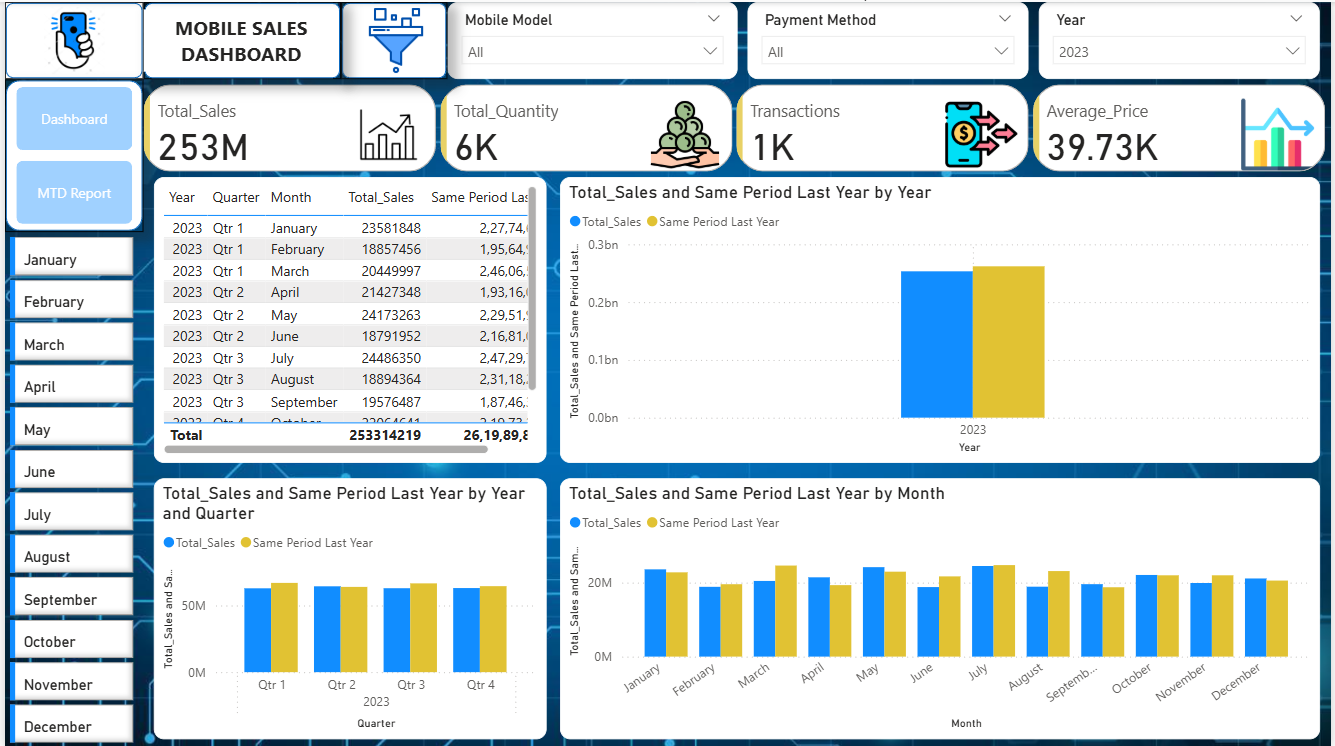

Layout of this report page (visuals, bound fields, positions):
{"tool":"powerbi","page":{"name":"Same Period Last Year","canvas":[1280,720],"ordinal":2},"visuals":[{"type":"shape","box":[0,0,133.9,74.8],"z":0},{"type":"image","box":[0,0,133.9,74.8],"z":1000},{"type":"shape","box":[0,74.8,133.9,147.2],"z":2000},{"type":"cardVisual","fields":{"Data":["Sales_Data.Total_Sales","Sales_Data.Total_Quantity","Sales_Data.Transactions","Sales_Data.Average_Price"]},"box":[129.1,74.8,1150.9,94.1],"z":3000},{"type":"slicer","fields":{"Values":["Sales_Data.Mobile Model"]},"box":[427.1,0,279.9,74.8],"z":4000},{"type":"slicer","fields":{"Values":["Sales_Data.Payment Method"]},"box":[716.6,0,271.4,74.8],"z":5000},{"type":"shape","box":[324.5,0,102.5,74.8],"z":6000},{"type":"image","box":[333,0,88.1,74.8],"z":7000},{"type":"slicer","fields":{"Values":["Custom_Calender.Date.Variation.Date Hierarchy.Year"]},"box":[997.7,0,271.4,74.8],"z":8000},{"type":"shape","box":[133.9,0,190.6,74.8],"z":9000},{"type":"textbox","box":[133.9,7.2,188.2,60.3],"z":10000},{"type":"advancedSlicerVisual","fields":{"Values":["Custom_Calender.Date.Variation.Date Hierarchy.Month"]},"box":[0,222,129.1,498.3],"z":11000},{"type":"tableEx","fields":{"Values":["Custom_Calender.Date.Variation.Date Hierarchy.Year","Custom_Calender.Date.Variation.Date Hierarchy.Quarter","Custom_Calender.Date.Variation.Date Hierarchy.Month","Sales_Data.Total_Sales","Sales_Data.Same Period Last Year"]},"box":[143.6,168.9,378.8,276.3],"z":12000},{"type":"clusteredColumnChart","fields":{"Category":["Custom_Calender.Date.Variation.Date Hierarchy.Year","Custom_Calender.Date.Variation.Date Hierarchy.Quarter"],"Y":["Sales_Data.Total_Sales","Sales_Data.Same Period Last Year"]},"box":[535.7,168.9,733.5,276.3],"z":13000},{"type":"clusteredColumnChart","fields":{"Y":["Sales_Data.Total_Sales","Sales_Data.Same Period Last Year"],"Category":["Custom_Calender.Date.Variation.Date Hierarchy.Year","Custom_Calender.Date.Variation.Date Hierarchy.Quarter","Custom_Calender.Date.Variation.Date Hierarchy.Month","Custom_Calender.Date.Variation.Date Hierarchy.Day"]},"box":[535.7,459.7,733.5,252.1],"z":13001},{"type":"clusteredColumnChart","fields":{"Category":["Custom_Calender.Date.Variation.Date Hierarchy.Year","Custom_Calender.Date.Variation.Date Hierarchy.Quarter"],"Y":["Sales_Data.Total_Sales","Sales_Data.Same Period Last Year"]},"box":[143.6,459.7,378.8,252.1],"z":13002},{"type":"pageNavigator","box":[10.9,82,112.2,132.7],"z":13003}]}

Visuals, with their boxes in screenshot pixels (x1, y1, x2, y2), scaled from the page's 1280x720 canvas onto the 1335x746 screenshot:
shape: l=0, t=0, r=140, b=78
image: l=0, t=0, r=140, b=78
shape: l=0, t=78, r=140, b=230
cardVisual - Sales_Data.Total_Sales x Sales_Data.Total_Quantity: l=135, t=78, r=1334, b=175
slicer - Sales_Data.Mobile Model: l=445, t=0, r=737, b=78
slicer - Sales_Data.Payment Method: l=747, t=0, r=1030, b=78
shape: l=338, t=0, r=445, b=78
image: l=347, t=0, r=439, b=78
slicer - Custom_Calender.Date.Variation.Date Hierarchy.Year: l=1041, t=0, r=1324, b=78
shape: l=140, t=0, r=338, b=78
textbox: l=140, t=7, r=336, b=70
advancedSlicerVisual - Custom_Calender.Date.Variation.Date Hierarchy.Month: l=0, t=230, r=135, b=745
tableEx - Custom_Calender.Date.Variation.Date Hierarchy.Year x Custom_Calender.Date.Variation.Date Hierarchy.Quarter: l=150, t=175, r=545, b=461
clusteredColumnChart - Custom_Calender.Date.Variation.Date Hierarchy.Year x Custom_Calender.Date.Variation.Date Hierarchy.Quarter: l=559, t=175, r=1324, b=461
clusteredColumnChart - Sales_Data.Total_Sales x Sales_Data.Same Period Last Year: l=559, t=476, r=1324, b=738
clusteredColumnChart - Custom_Calender.Date.Variation.Date Hierarchy.Year x Custom_Calender.Date.Variation.Date Hierarchy.Quarter: l=150, t=476, r=545, b=738
pageNavigator: l=11, t=85, r=128, b=222
